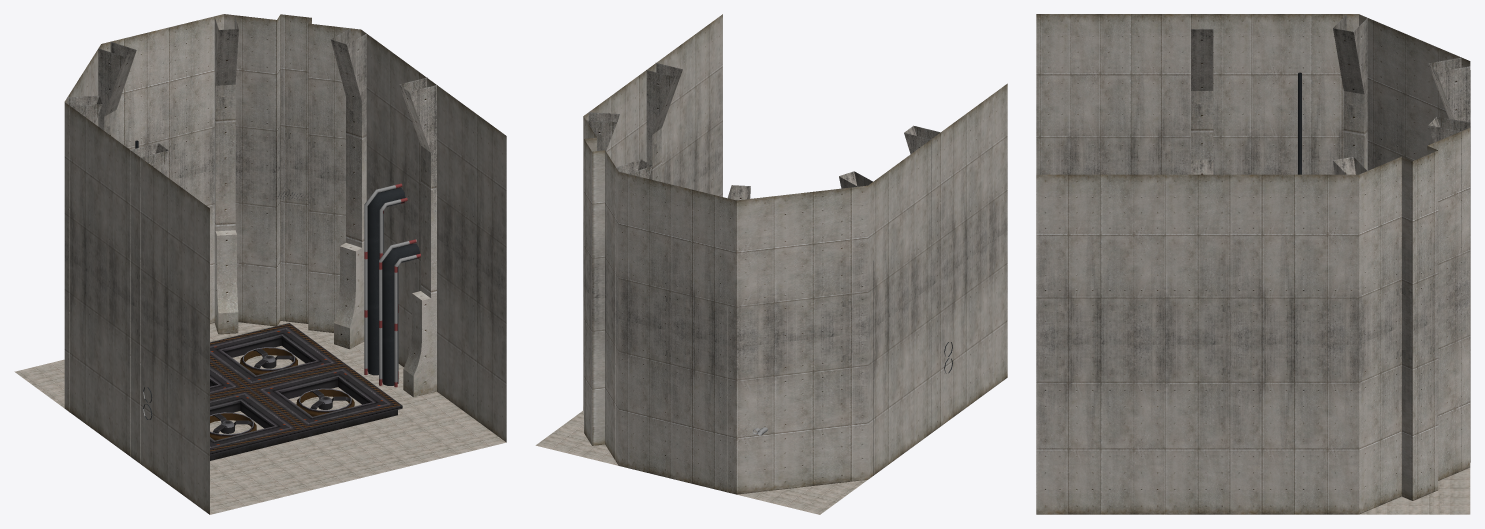
File: Factory_scene.FBX
The picture shows the model from 3 angles, left to right: view 1: azimuth 30°, elevation 25°; view 2: azimuth 150°, elevation 25°; view 3: azimuth 270°, elevation 25°; orthographic projection. The views are drawn at different scales.
Parts seen in each view (by area): view 1: Factory; view 2: Factory; view 3: Factory.
Boxes of the visible parts, left/top/right/bottom form: Factory: left=14, top=14, right=506, bottom=514; Factory: left=535, top=14, right=1007, bottom=514; Factory: left=1036, top=14, right=1470, bottom=514.
Bounding box in the file's own units: 60.97 × 69.35 × 59.97.
